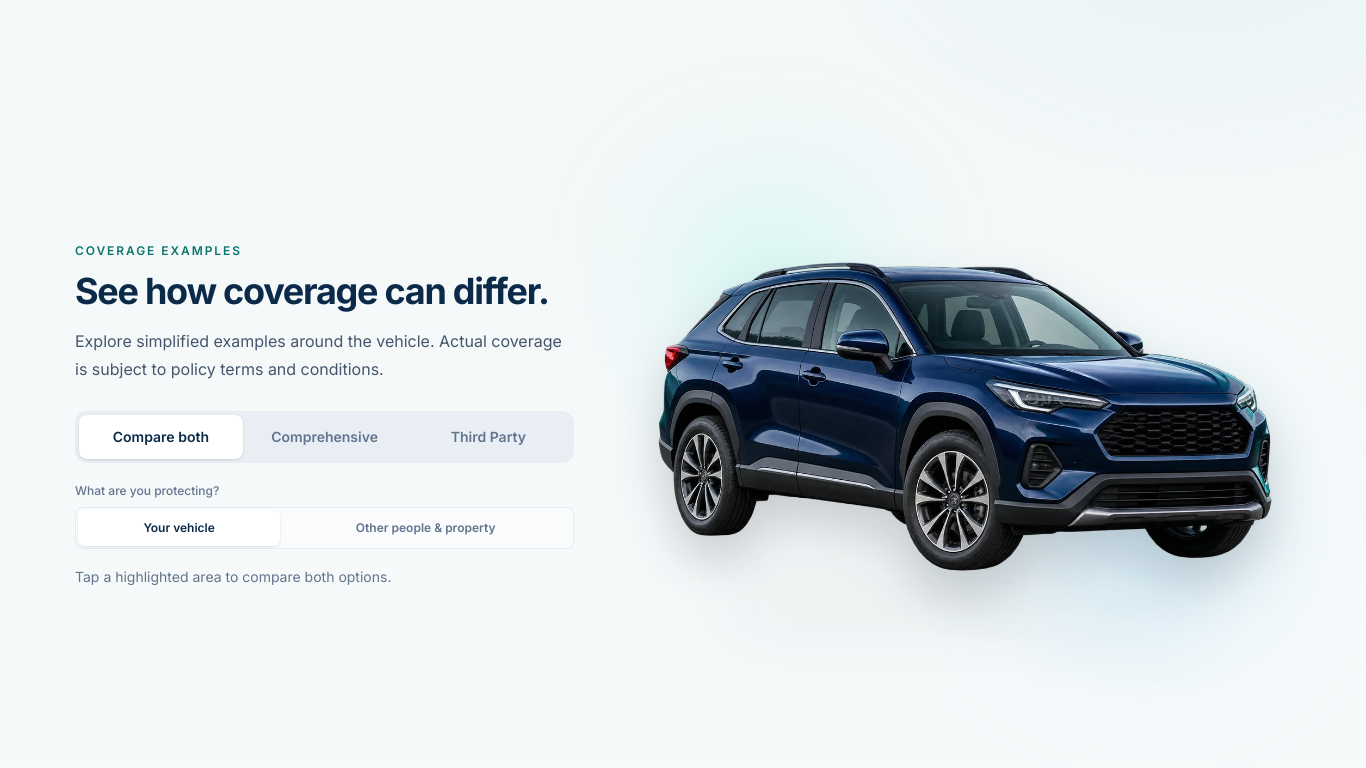
Test case: combined hero and coverage story › updates hotspot copy for Third Party mode
The width and height of the screenshot is (1366, 768).
(page scrolled)
Click the button "Third Party" at (488, 438), box [406,416,570,460]
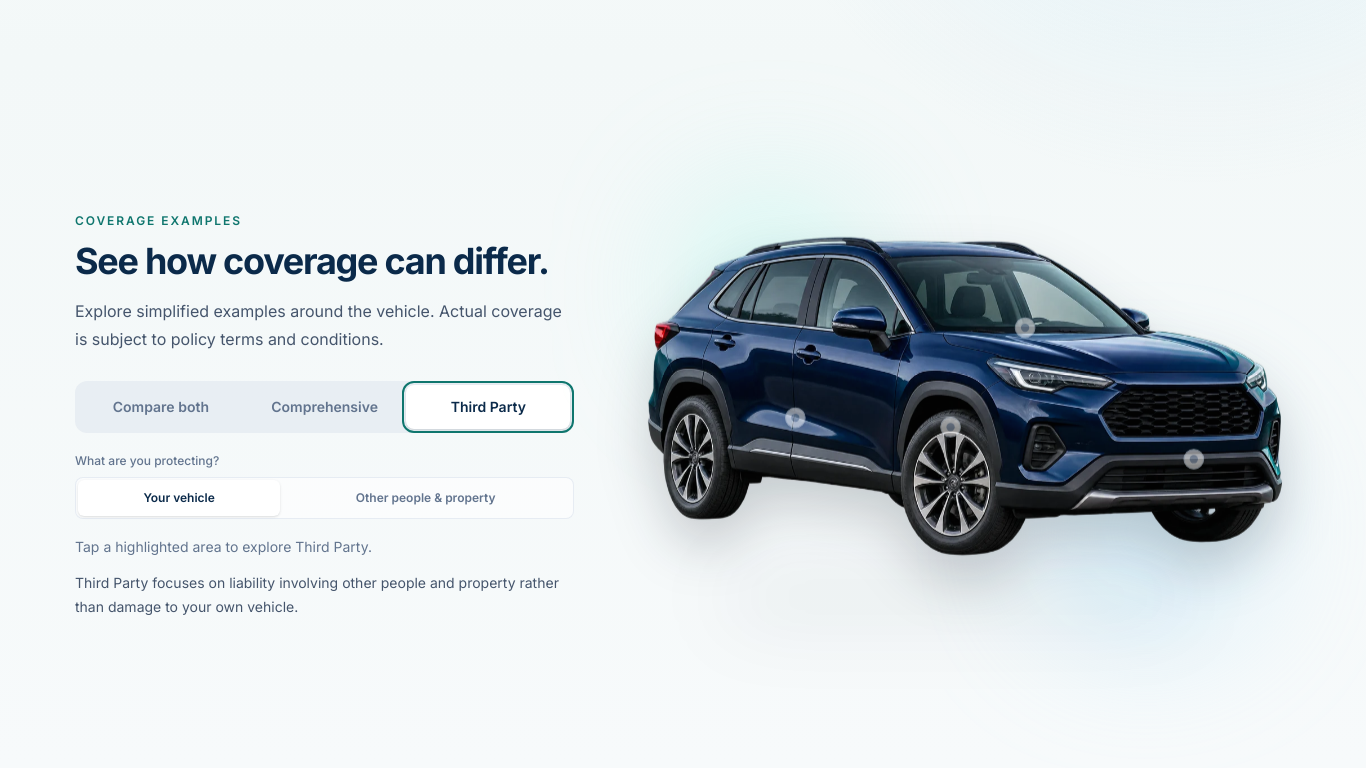
Result: the text "focuses on liability involving other people and property rather than damage to your own vehicle" is shown at [75,574,559,616]
Result: the button named "Show Windshield Third Party coverage example" is enabled
Hover over the button named "Show Windshield Third Party coverage example" at (1025, 328), box [1003,306,1048,351]
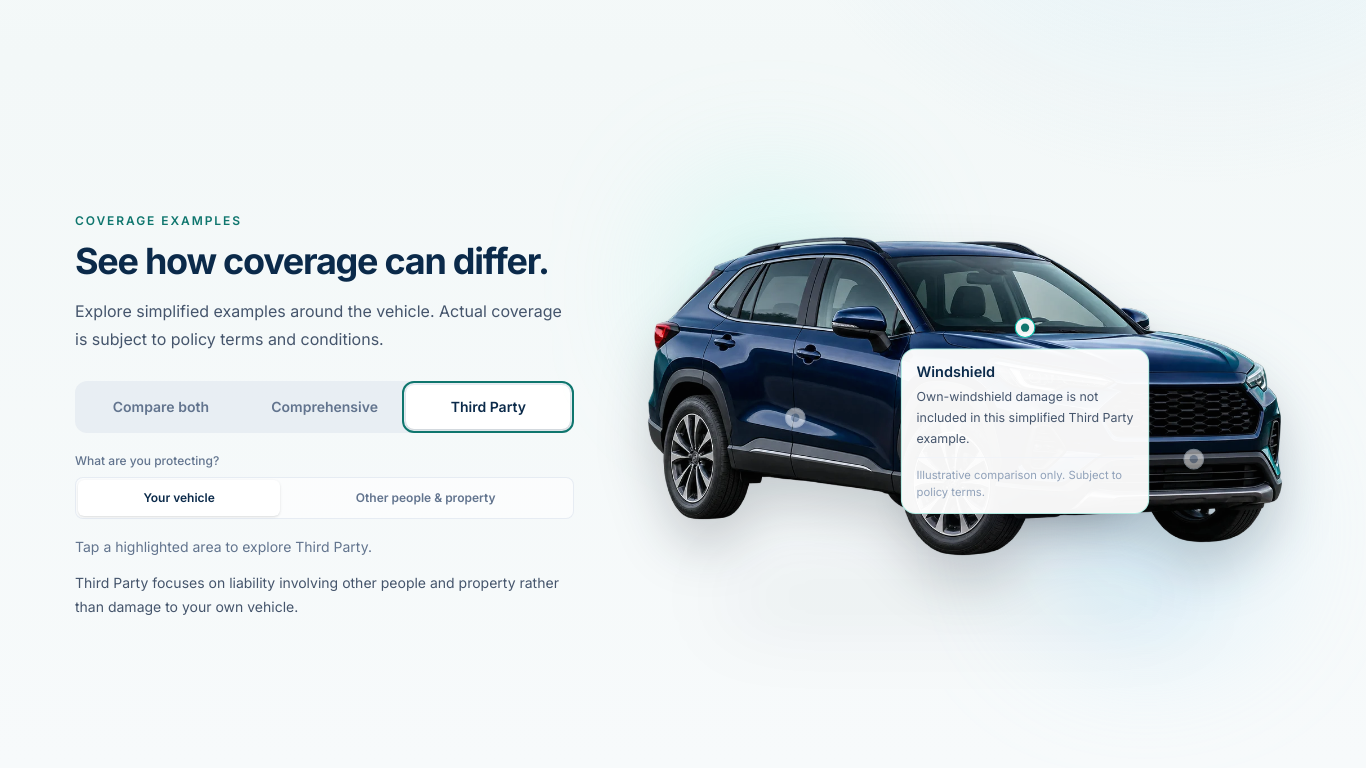
Result: the text "Own-windshield damage is not included" is shown at [917,390,1134,446]
Move the pointer off the button named "Show Windshield Third Party coverage example", box [1003,306,1048,351]
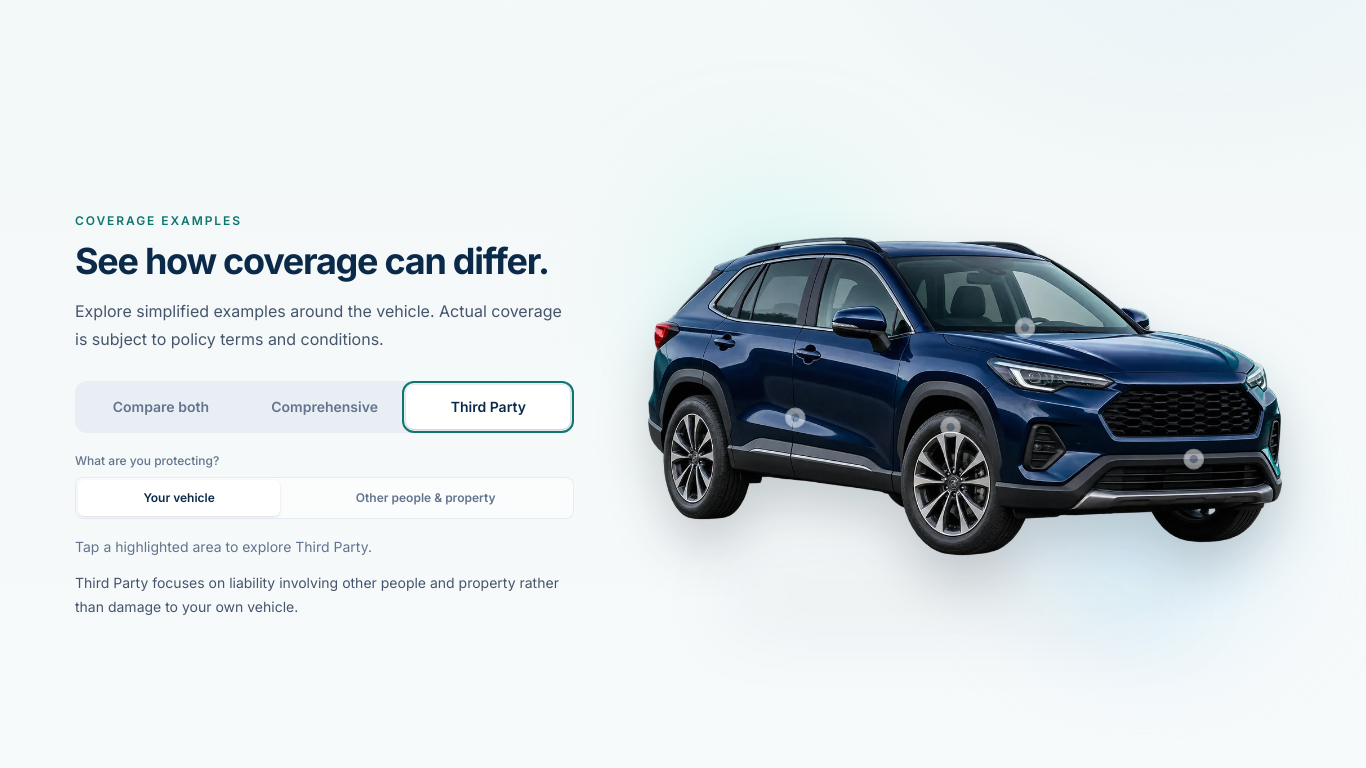
Result: the tooltip "Windshield Own-windshield damage is not included in this simplified Third Party" is gone
